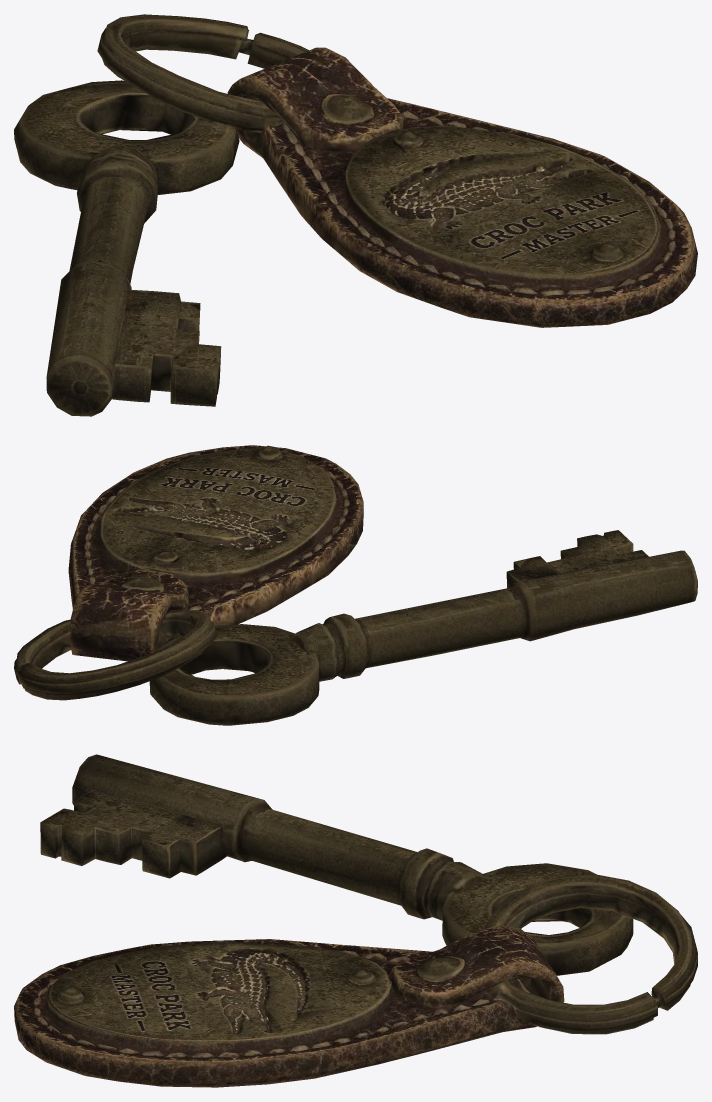
Rendered from park-key.glb.
3 renders of one model, top to bottom at view 1: azimuth 30°, elevation 25°; view 2: azimuth 150°, elevation 25°; view 3: azimuth 270°, elevation 25°, orthographic. The views are drawn at different scales.
Parts seen in each view (by area): view 1: Model; view 2: Model; view 3: Model.
Boxes of the visible parts, x1=… form: Model: x1=14, y1=14, x2=697, y2=416; Model: x1=14, y1=445, x2=697, y2=725; Model: x1=14, y1=754, x2=697, y2=1087.
Bounding box in the file's own units: 1.91 × 0.2403 × 1.89.
1 material, 1 textured.
